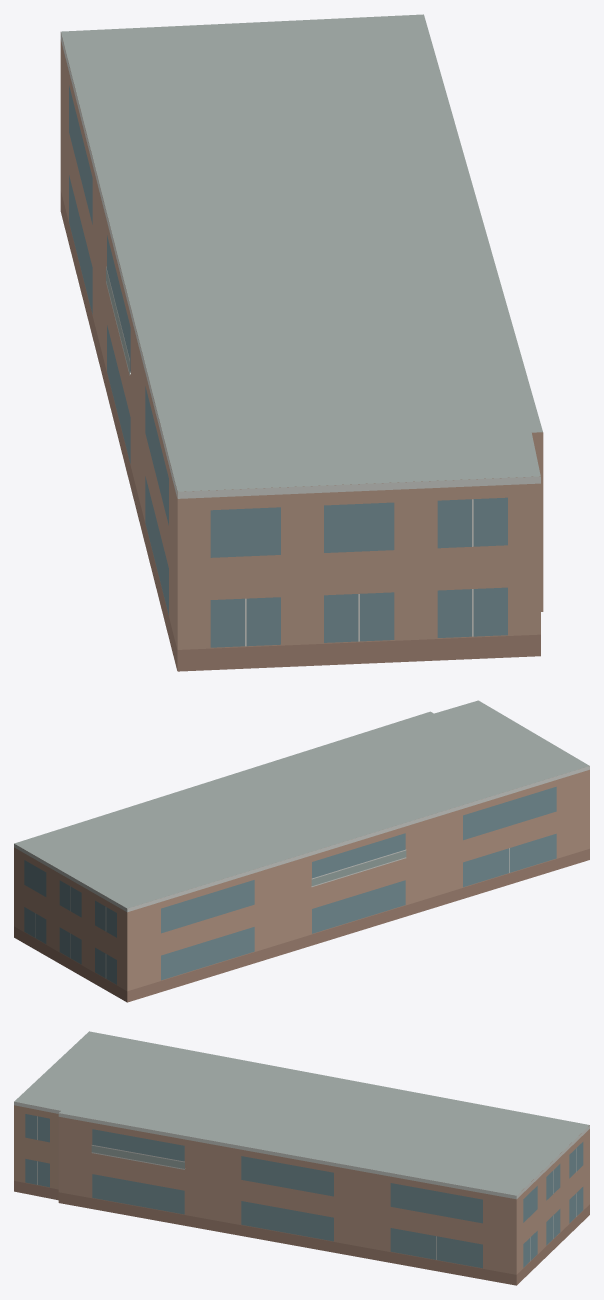
File: survey-upis-32509633.glb
The picture shows the model from 3 angles, top to bottom: view 1: azimuth 30°, elevation 25°; view 2: azimuth 150°, elevation 25°; view 3: azimuth 270°, elevation 25°; orthographic projection. The views are drawn at different scales.
Parts seen in each view (by area): view 1: survey-upis-32509633.tmp; view 2: survey-upis-32509633.tmp; view 3: survey-upis-32509633.tmp.
Part boxes in pixels (bbox=[...]): survey-upis-32509633.tmp: bbox=[60, 14, 543, 671]; survey-upis-32509633.tmp: bbox=[14, 700, 589, 1002]; survey-upis-32509633.tmp: bbox=[14, 1031, 589, 1285].
Size of the model in its own units: 23.94 by 6.1 by 35.43.
